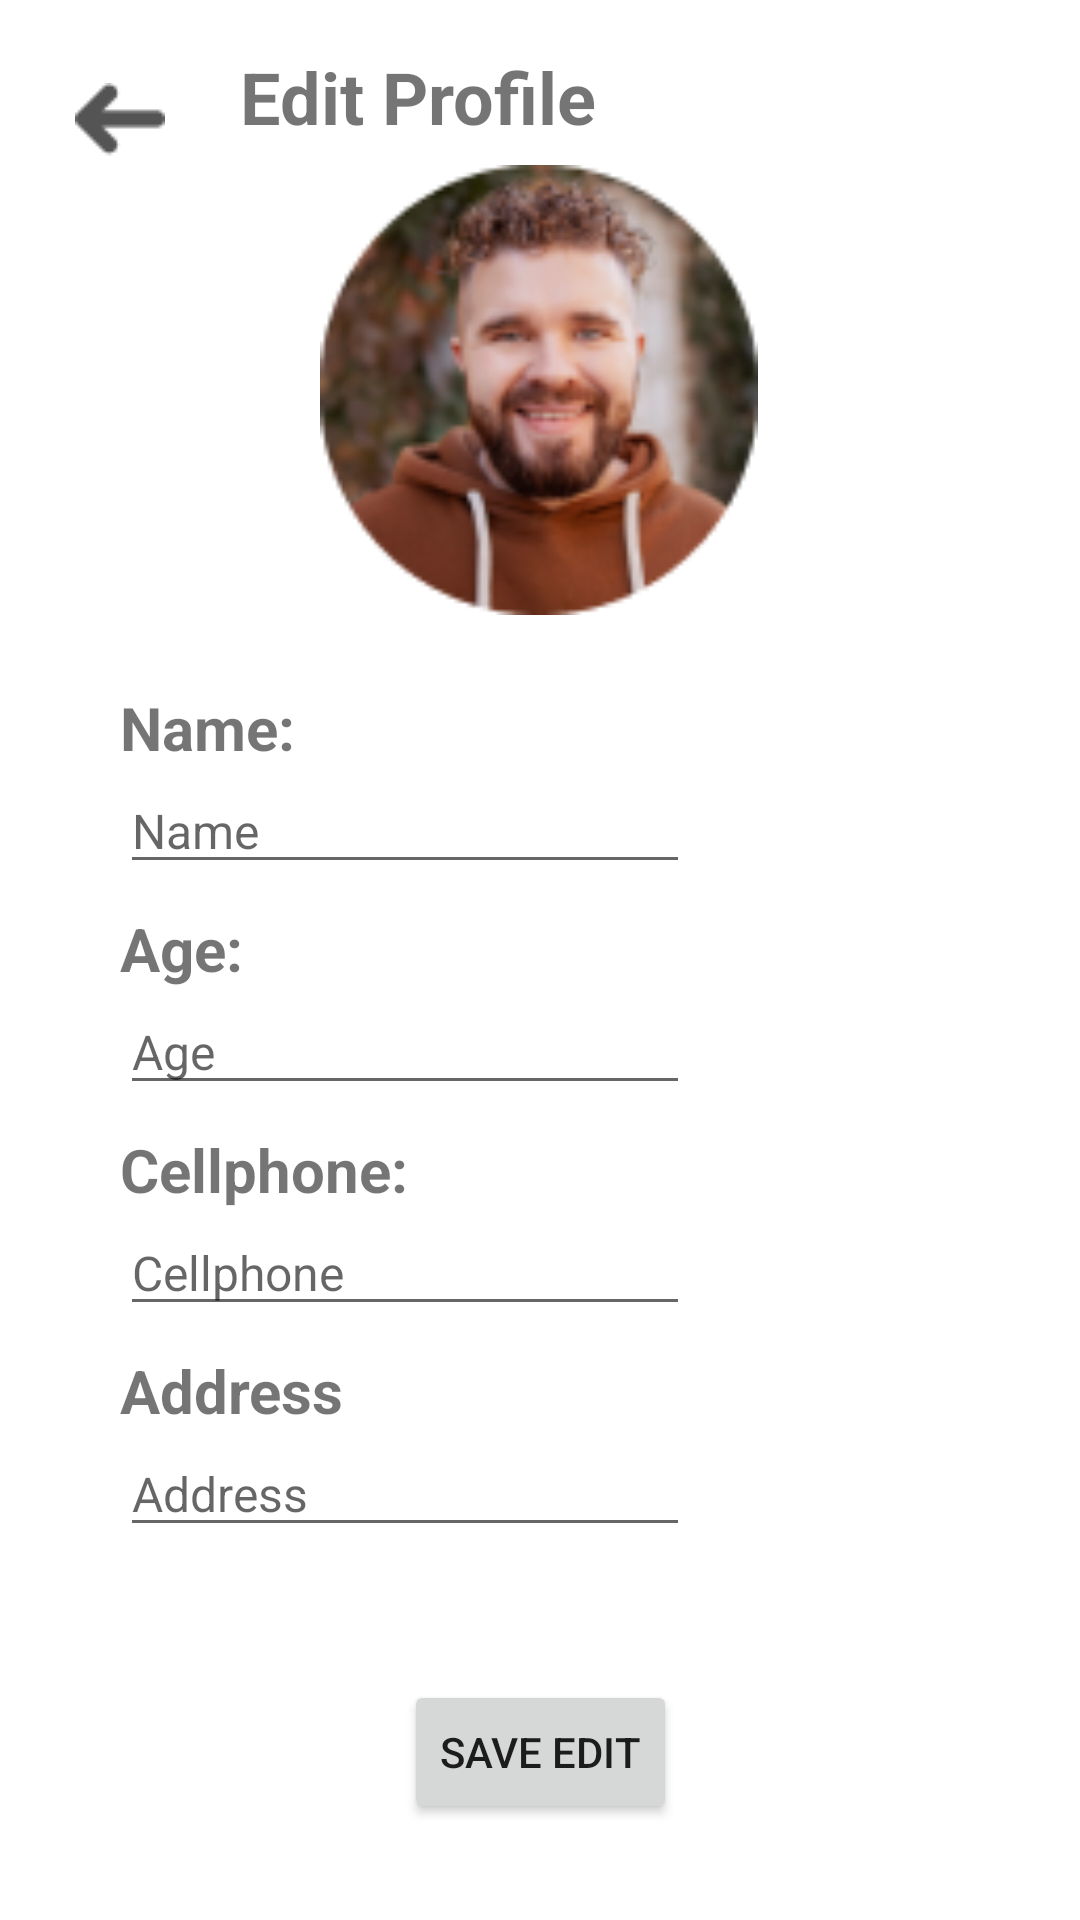

Icon click points for this 1080 × 1920 phone screenshot, format [x,y]:
arrow: [120,119]
